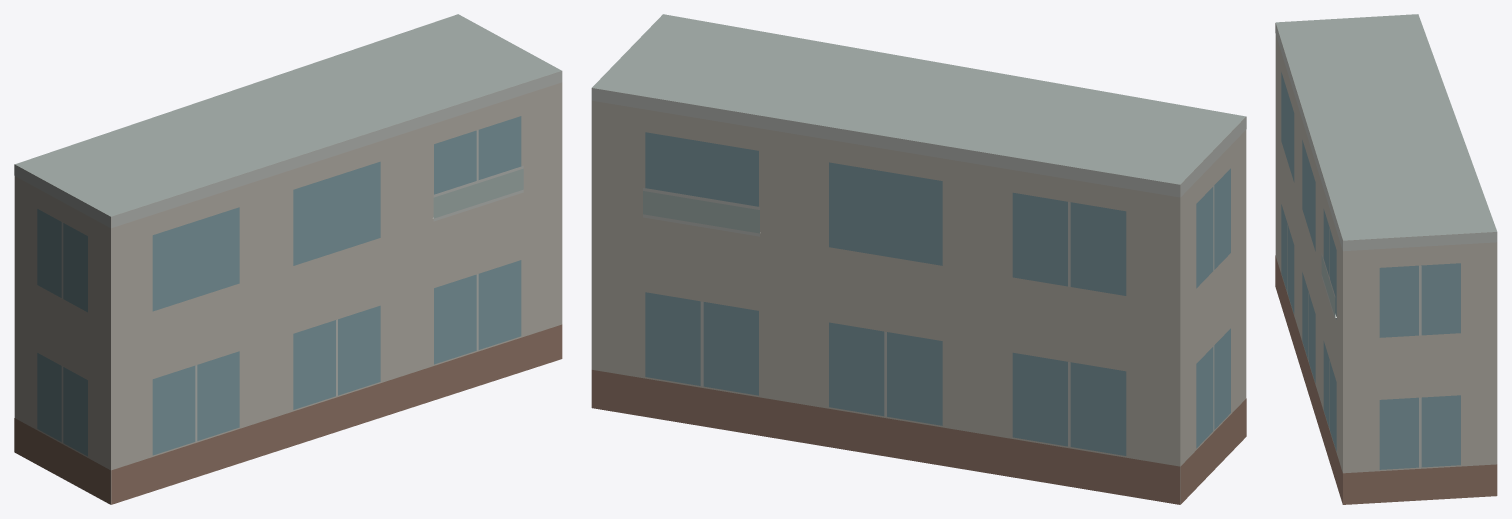
File: survey-upis-33037332.glb
The picture shows the model from 3 angles, left to right: view 1: azimuth 30°, elevation 25°; view 2: azimuth 150°, elevation 25°; view 3: azimuth 270°, elevation 25°; orthographic projection. The views are drawn at different scales.
Visible parts, largest first — view 1: survey-upis-33037332.tmp; view 2: survey-upis-33037332.tmp; view 3: survey-upis-33037332.tmp.
Part boxes in pixels (left/top/right/bottom): survey-upis-33037332.tmp: left=14, top=14, right=562, bottom=504; survey-upis-33037332.tmp: left=591, top=14, right=1246, bottom=504; survey-upis-33037332.tmp: left=1275, top=14, right=1497, bottom=504.
Size of the model in its own units: 11.24 by 6.1 by 4.66.
